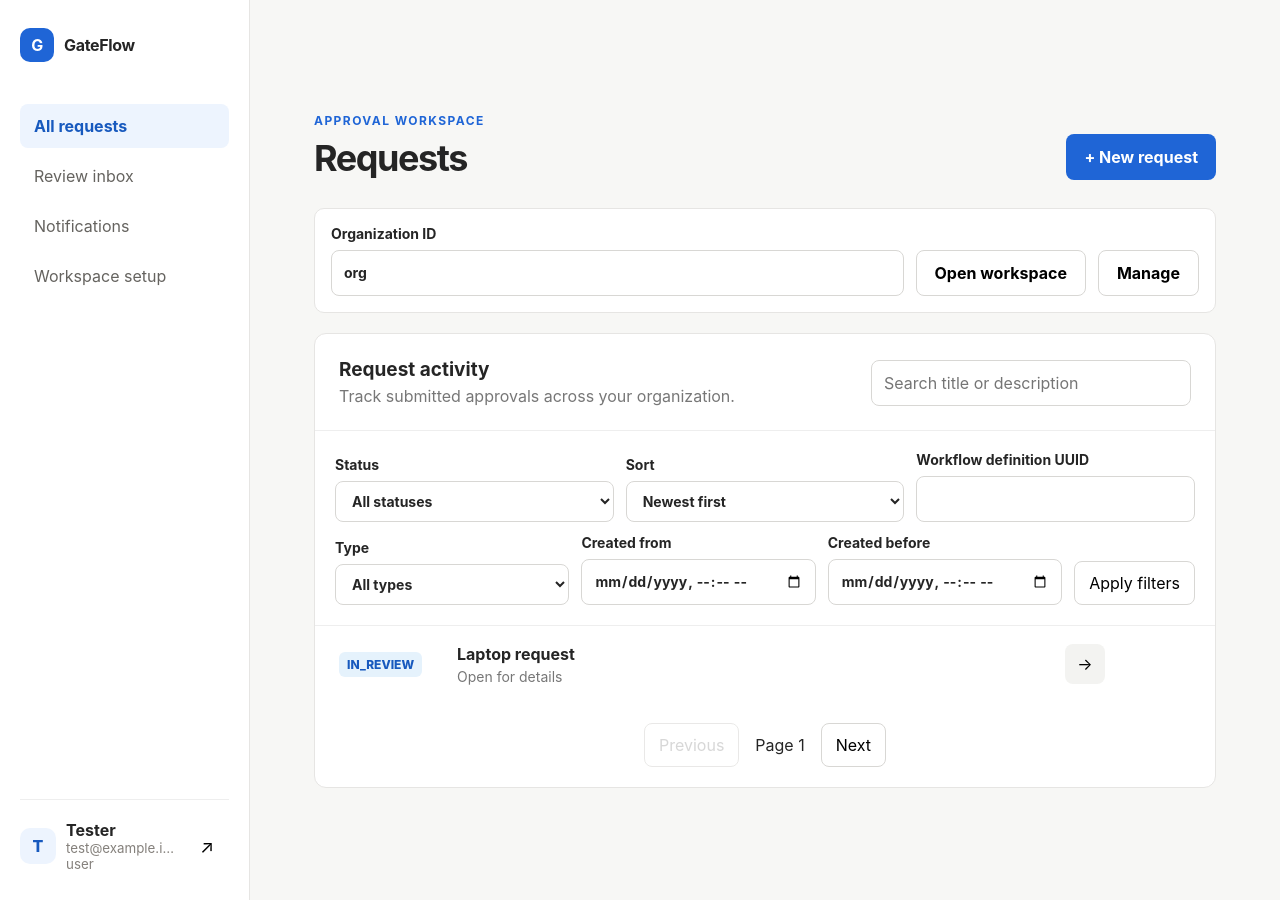
Scenario: retrieves the next bounded page
Click the button "Next".
click(853, 744)  # box [821,722,886,766]
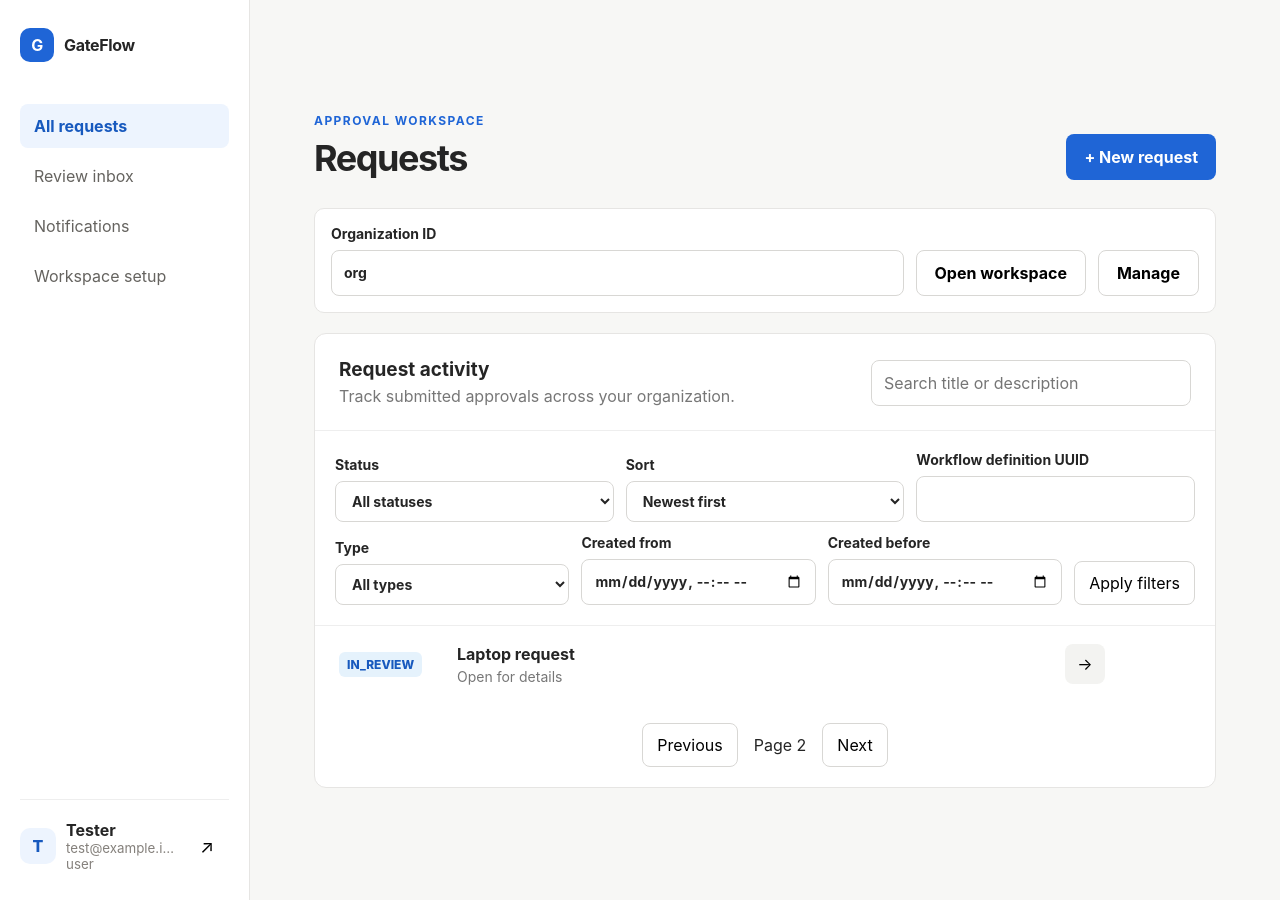
Expected: the text "Page 2" is shown, [754,734,806,754]
